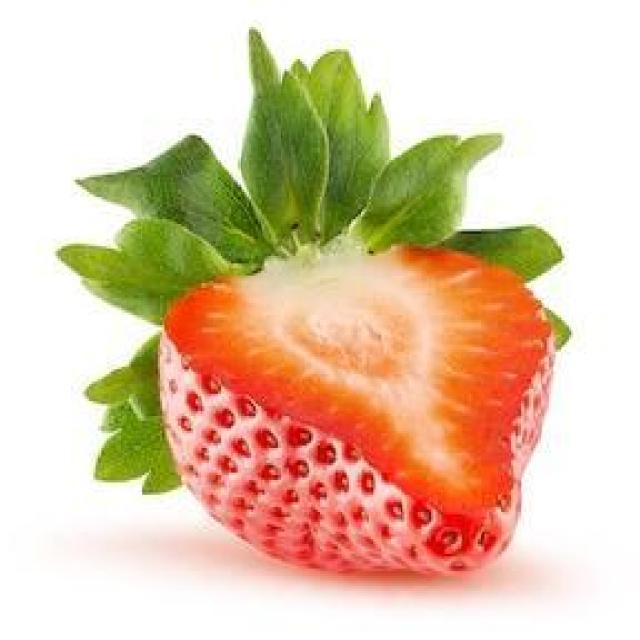Berries strawberries/blueberries: (153, 235, 557, 577)
